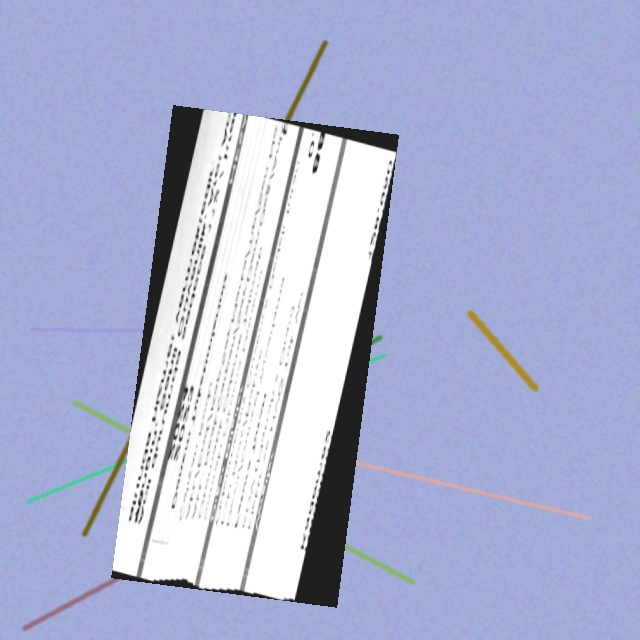electricity-bill: (110, 105, 398, 607)
